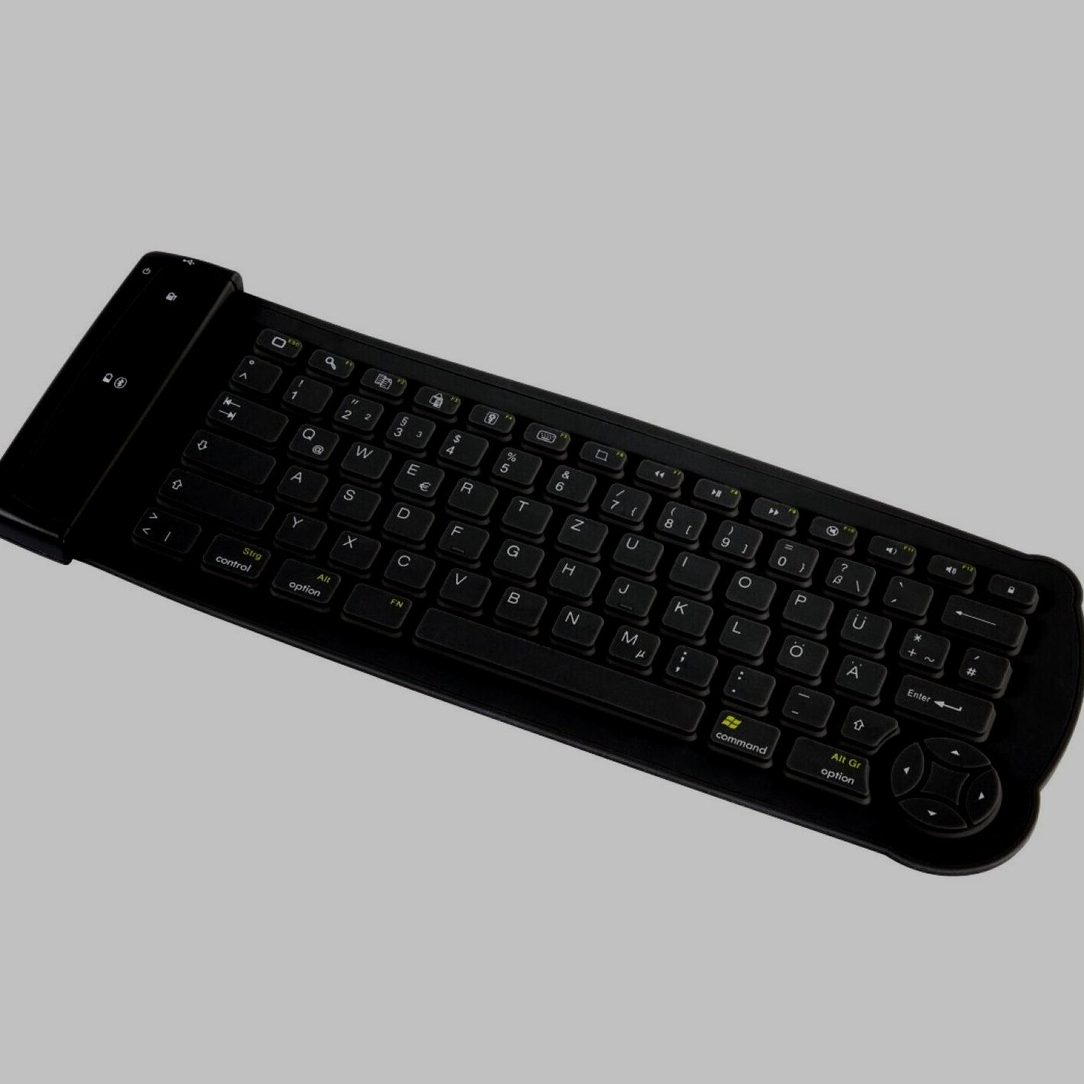0: (765, 534, 819, 577)
1: (279, 372, 332, 412)
2: (331, 391, 384, 429)
3: (382, 408, 435, 447)
4: (435, 425, 488, 466)
5: (489, 444, 542, 484)
6: (544, 461, 597, 502)
7: (598, 479, 651, 521)
8: (653, 499, 707, 540)
9: (707, 517, 764, 559)
a: (274, 463, 329, 502)
accent: (880, 572, 933, 614)
ae: (832, 652, 887, 695)
alt-left: (268, 555, 345, 606)
altgr-right: (782, 732, 873, 801)
b: (490, 584, 547, 627)
c: (380, 547, 436, 589)
caret: (228, 352, 281, 392)
comma: (662, 642, 718, 687)
d: (380, 500, 435, 541)
del: (939, 591, 1025, 647)
e: (391, 457, 445, 497)
enter: (891, 671, 994, 735)
f: (435, 518, 490, 559)
g: (490, 537, 545, 578)
h: (546, 555, 601, 597)
hash: (956, 643, 1011, 691)
i: (666, 548, 720, 590)
j: (602, 574, 657, 617)
k: (659, 593, 714, 637)
keyboard: (1, 244, 1084, 880)
l: (717, 612, 771, 656)
less: (130, 506, 207, 559)
m: (604, 623, 662, 666)
minus: (778, 682, 835, 727)
n: (547, 603, 604, 646)
o: (722, 568, 778, 609)
oe: (774, 632, 828, 676)
p: (779, 586, 834, 629)
plus: (896, 624, 951, 668)
point: (719, 662, 776, 707)
q: (284, 422, 340, 460)
r: (444, 475, 499, 515)
s: (326, 481, 381, 522)
shift-left: (158, 463, 272, 532)
shift-lock: (181, 425, 274, 486)
shift-right: (839, 705, 896, 750)
space: (410, 604, 707, 736)
ss: (822, 554, 877, 595)
strg-left: (198, 530, 274, 582)
t: (499, 492, 553, 533)
tab: (203, 388, 288, 443)
u: (609, 530, 664, 572)
ue: (836, 605, 892, 649)
v: (435, 566, 491, 607)
w: (338, 438, 392, 478)
x: (326, 528, 381, 569)
y: (271, 509, 328, 550)
z: (554, 511, 609, 553)
